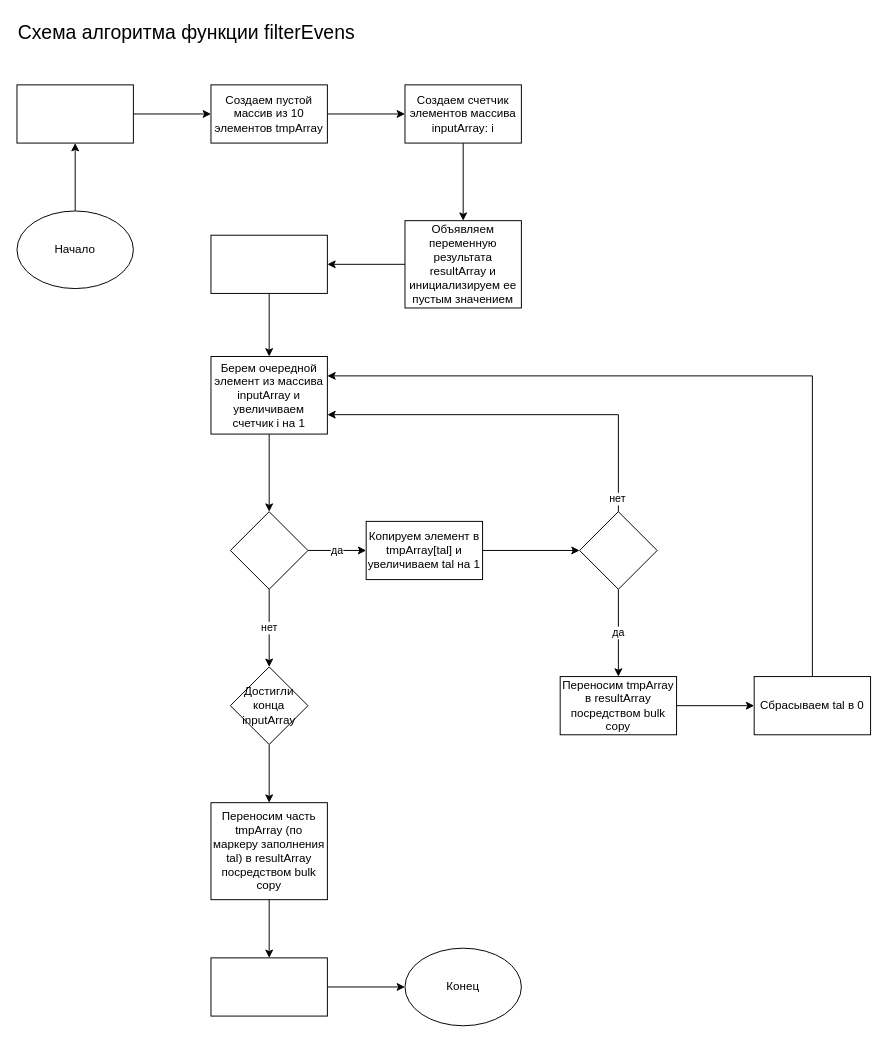
The diagram is 888 pixels wide and 1043 high, and some of its shapes have lost their labels. Here are the shapes that lost their labels. From the top down, the centre of each, then its label:
[74,113]: Массив целых чисел inputArray
[268,263]: Создаем маркер наполнения массива tmpArray: tal
[268,550]: Элемент четный
[618,550]: tal >= 10
[268,986]: Возвращаем на выход результат resultArray
